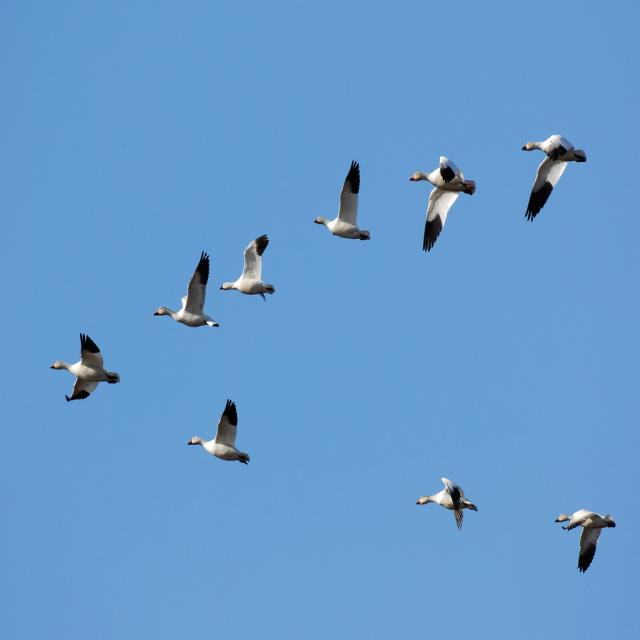bird: (409, 155, 476, 253), (523, 134, 588, 223), (310, 161, 376, 245), (48, 333, 121, 405), (159, 253, 222, 329), (186, 400, 254, 468), (555, 511, 619, 575), (218, 235, 279, 302), (416, 480, 482, 530)
